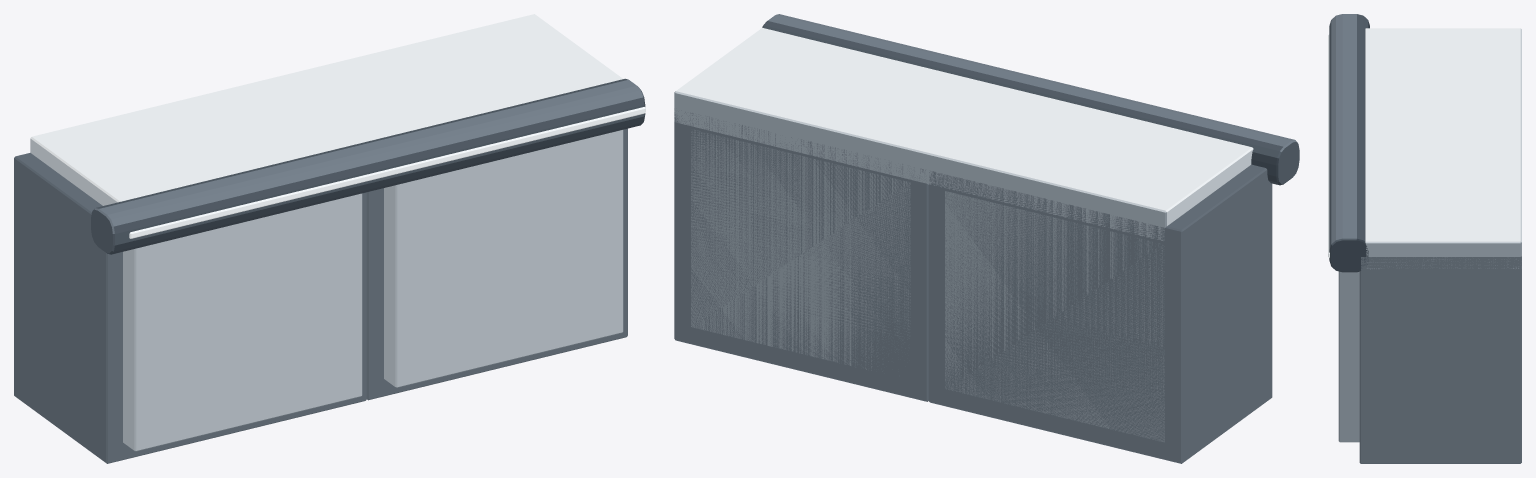
The model's file is Terrain_TopRun2L.gltf.
3 views of the same model, side by side, from view 1: azimuth 30°, elevation 25°; view 2: azimuth 150°, elevation 25°; view 3: azimuth 270°, elevation 25° (orthographic). The views are drawn at different scales.
Visible parts, largest first — view 1: Terrain_TopRun2L_baked; view 2: Terrain_TopRun2L_baked; view 3: Terrain_TopRun2L_baked.
Part boxes in pixels (left/top/right/bottom): Terrain_TopRun2L_baked: left=14, top=14, right=645, bottom=463; Terrain_TopRun2L_baked: left=674, top=14, right=1299, bottom=463; Terrain_TopRun2L_baked: left=1328, top=14, right=1521, bottom=463.
Size of the model in its own units: 2.04 by 0.9495 by 0.74.
